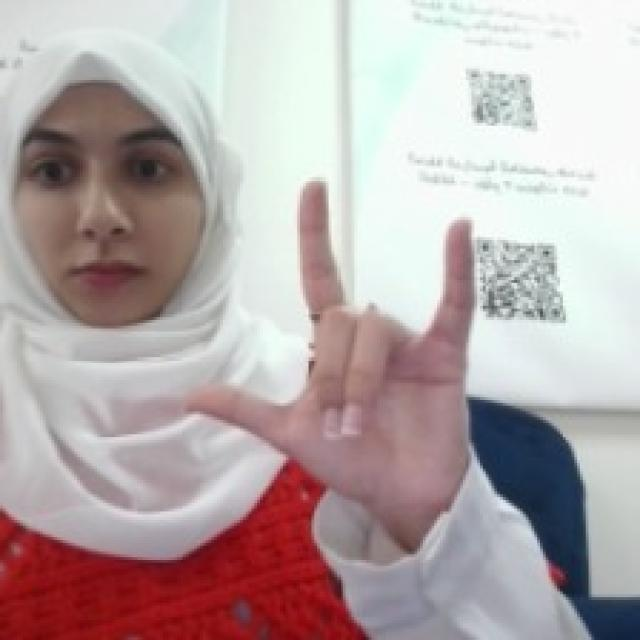love: (174, 171, 477, 506)
